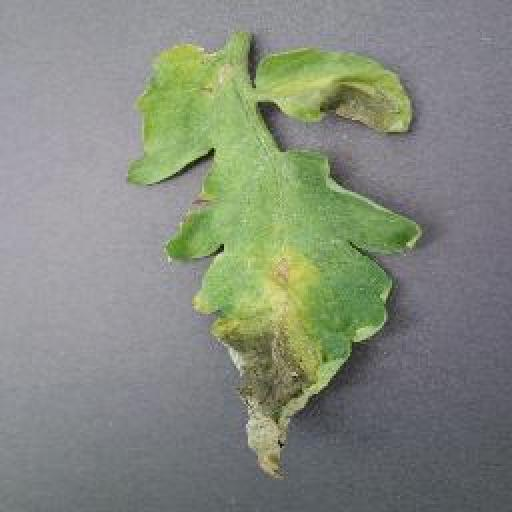disease_tomato: (129, 42, 423, 476)
